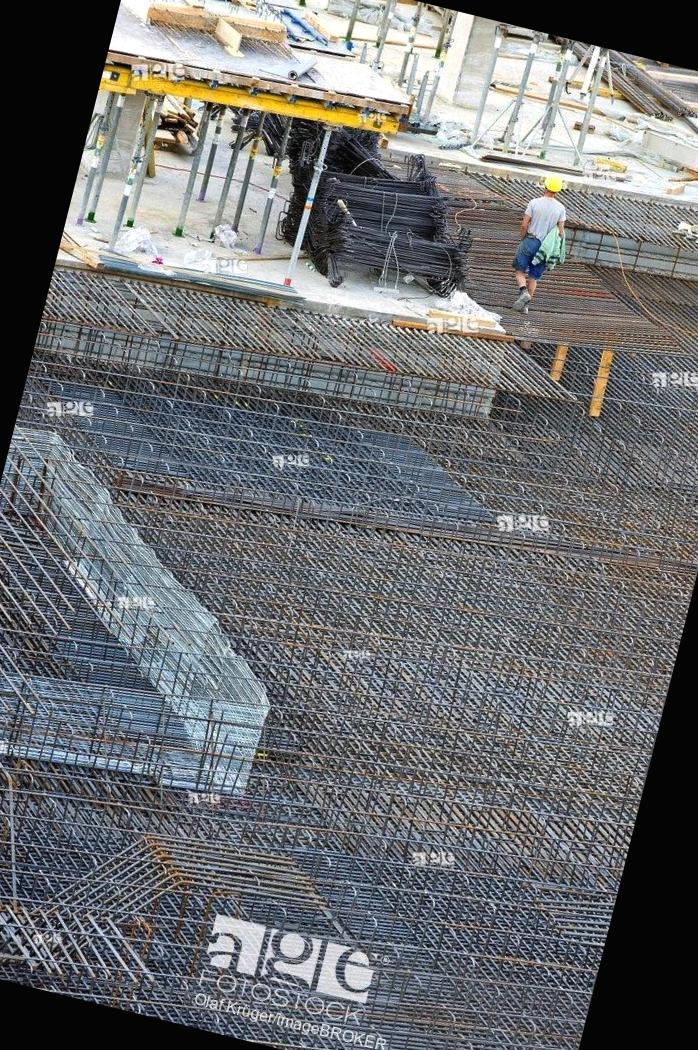person: (494, 155, 586, 322)
